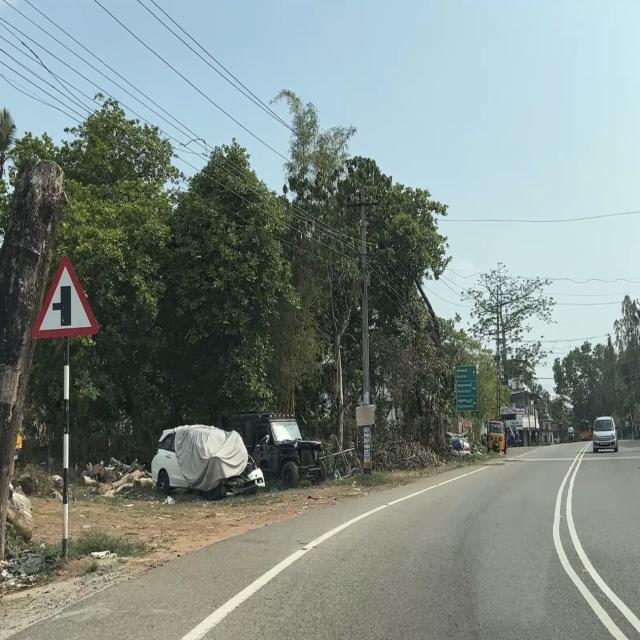GENERAL: (455, 365, 479, 412)
SIDE_ROAD_LEFT: (28, 250, 103, 342)
